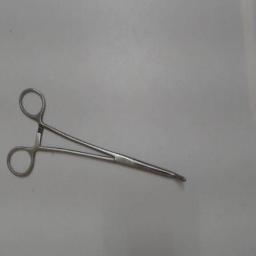Lahey Forceps: (4, 84, 190, 186)
